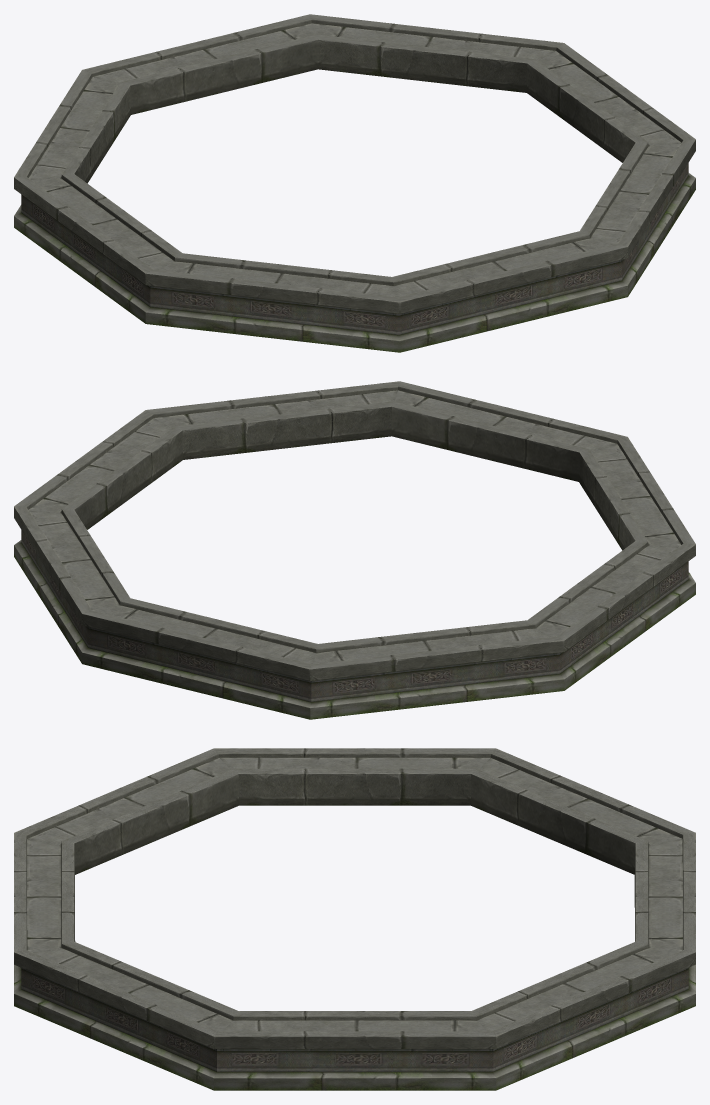
The model's file is JiaYeSi_HuaTan_3.FBX.
3 views of the same model, one above another, from view 1: azimuth 30°, elevation 25°; view 2: azimuth 150°, elevation 25°; view 3: azimuth 270°, elevation 25° (orthographic). The views are drawn at different scales.
Visible parts, largest first — view 1: JiaYeSi_HuaTan_3; view 2: JiaYeSi_HuaTan_3; view 3: JiaYeSi_HuaTan_3.
Part boxes in pixels (x1,y1,x2,y2): JiaYeSi_HuaTan_3: [14, 14, 695, 352]; JiaYeSi_HuaTan_3: [14, 381, 695, 719]; JiaYeSi_HuaTan_3: [14, 748, 695, 1090].
Size of the model in its own units: 1419 by 124 by 1419.
